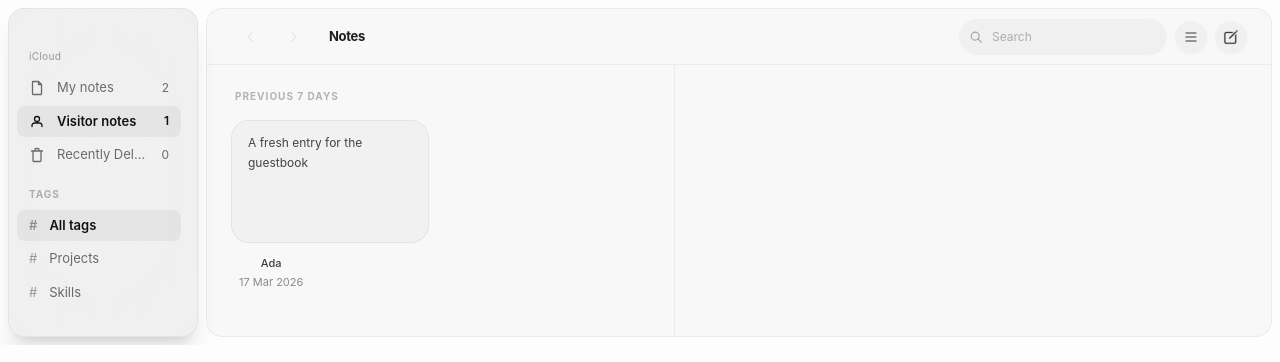
Test case: NotesApp › shows owner tags across sections and routes tag clicks back to My notes
Check: the text "Tags" is shown, box [29,188,60,200]
Check: the button "# All tags" is shown, box [17,210,181,241]
What coordinates should you click on to do the following:
click the button "Recently Deleted 0"
I would click on:
 (99, 155)
Its box is [17,139,181,170].
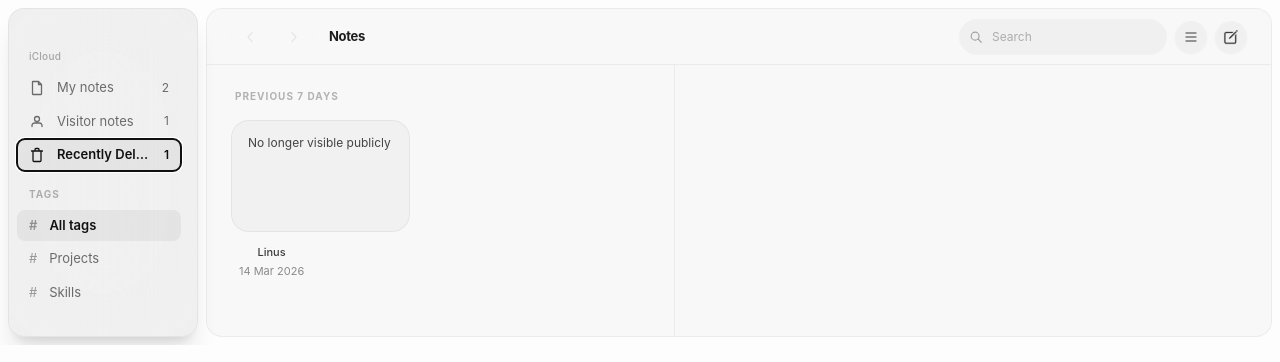
Check: the text "Tags" is shown, box [29,188,60,200]
Check: the button "Recently Deleted 1" has class "font-semibold", box [17,139,181,170]
What coordinates should you click on to do the following:
click the button with aria-label "Filter by tag Projects"
I would click on:
 (99, 259)
Its box is [17,243,181,274].
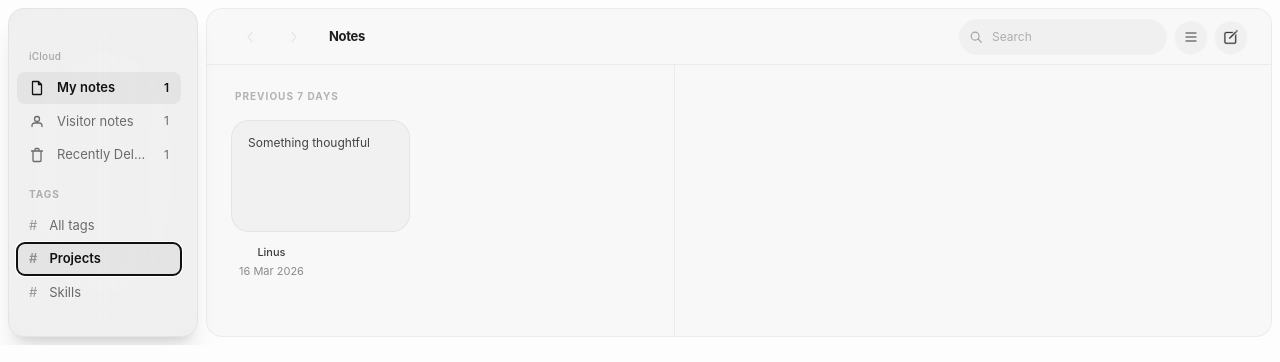
Check: the text "Something thoughtful" is shown, box [248,135,370,150]
